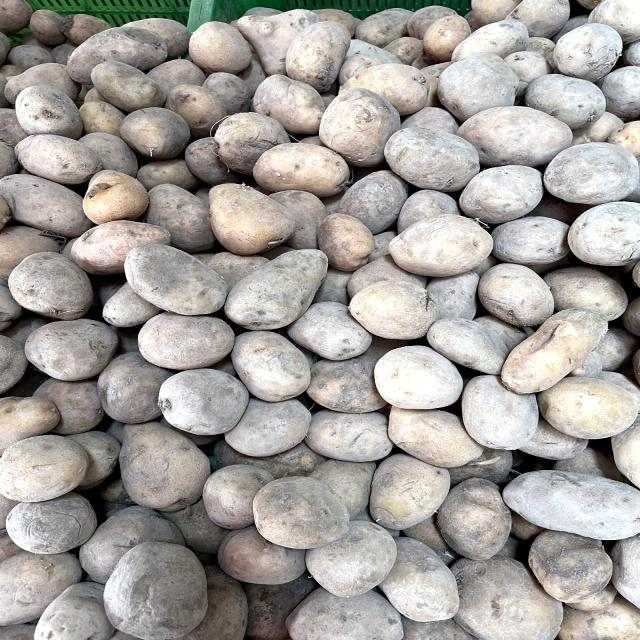potato: (95, 534, 226, 640), (490, 461, 640, 541), (102, 408, 214, 515), (497, 301, 620, 398), (220, 244, 343, 334), (240, 466, 364, 553), (148, 362, 261, 439), (192, 174, 308, 249), (381, 208, 500, 280), (121, 240, 231, 317), (379, 120, 488, 195), (242, 135, 362, 203), (277, 15, 363, 97), (7, 129, 106, 187), (91, 54, 169, 120)
